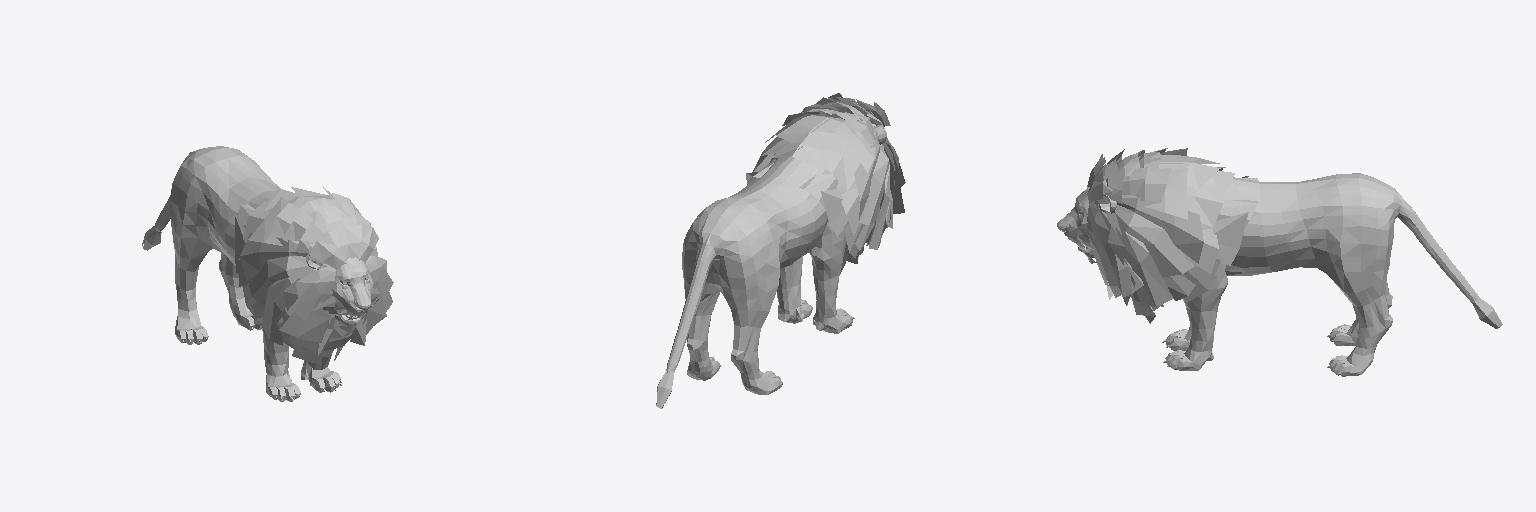
Rendered from Lion.obj.
3 views of the same model, side by side, from view 1: azimuth 30°, elevation 25°; view 2: azimuth 150°, elevation 25°; view 3: azimuth 270°, elevation 25° (orthographic).
Parts seen in each view (by area): view 1: Leon_Lion_Default; view 2: Leon_Lion_Default; view 3: Leon_Lion_Default.
Part boxes in pixels (x1,y1,x2,y2): Leon_Lion_Default: (142,146,393,401); Leon_Lion_Default: (656,93,905,408); Leon_Lion_Default: (1057,148,1502,376).
Size of the model in its own units: 6.76 by 11.43 by 22.8.